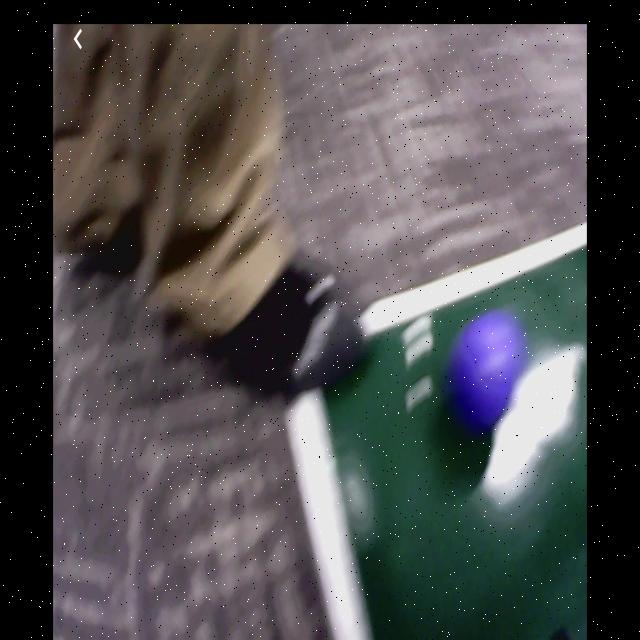ball: (453, 319, 520, 431)
